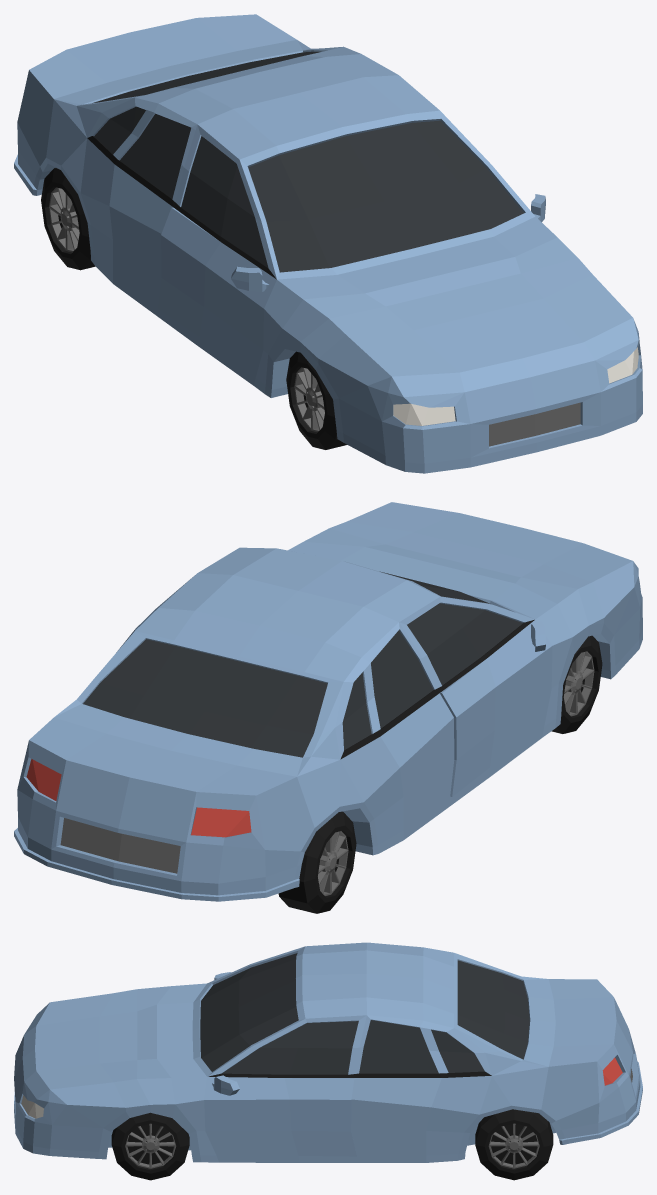
Rendered from sedan.gltf.
3 views of the same model, one above another, from view 1: azimuth 30°, elevation 25°; view 2: azimuth 150°, elevation 25°; view 3: azimuth 270°, elevation 25° (orthographic). The views are drawn at different scales.
Visible parts, largest first — view 1: Body, Wheel_RR, Wheel_FR; view 2: Body, Wheel_RR, Wheel_FR; view 3: Body, Wheel_RL, Wheel_FL.
Boxes of the visible parts, <box> form: Body: <box>14,14,642,473</box>; Wheel_RR: <box>41,168,95,270</box>; Wheel_FR: <box>286,351,346,449</box>; Body: <box>14,502,642,901</box>; Wheel_RR: <box>278,811,356,913</box>; Wheel_FR: <box>551,635,602,733</box>; Body: <box>14,942,642,1162</box>; Wheel_RL: <box>475,1109,553,1180</box>; Wheel_FL: <box>111,1112,189,1180</box>.
Bounding box in the file's own units: 1.81 × 1.18 × 4.22.
